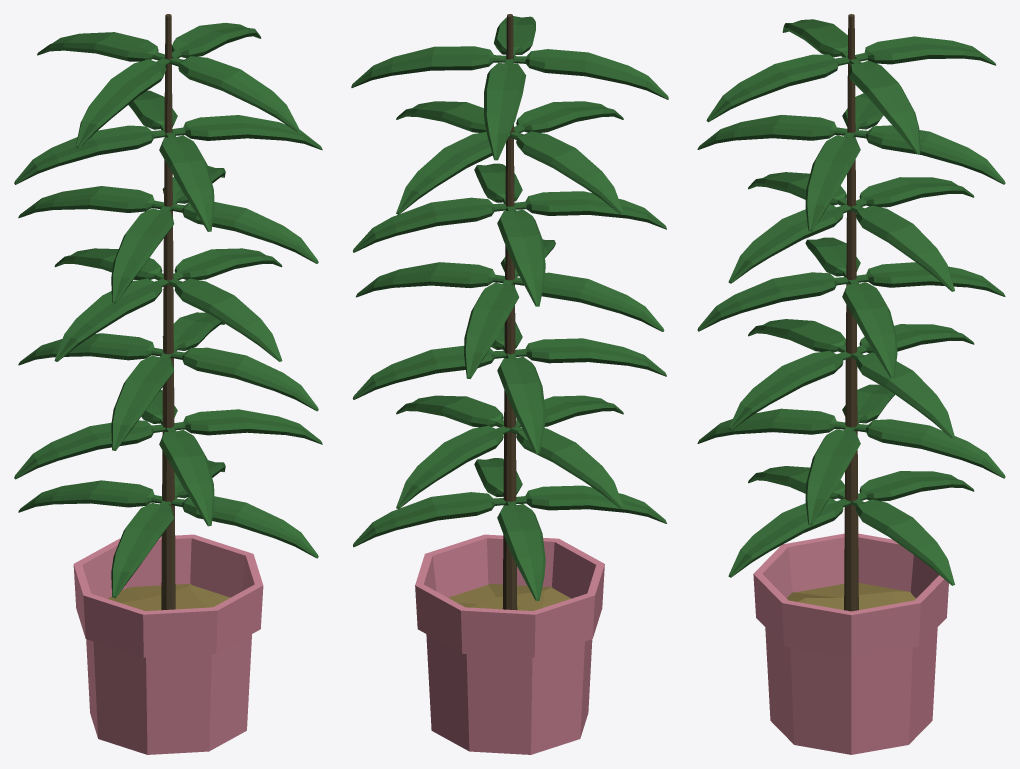
File: Pot Plant.fbx
3 renders of one model, left to right at view 1: azimuth 30°, elevation 25°; view 2: azimuth 150°, elevation 25°; view 3: azimuth 270°, elevation 25°, orthographic.
Visible parts, largest first — view 1: Plant, Pot; view 2: Plant, Pot; view 3: Plant, Pot.
Part boxes in pixels (x1,y1,x2,y2): Plant: (14, 14, 322, 610); Pot: (73, 534, 263, 754); Plant: (351, 14, 668, 610); Pot: (415, 534, 604, 754); Plant: (697, 14, 1005, 611); Pot: (753, 533, 948, 754).
Bounding box in the file's own units: 380 × 960 × 380.
